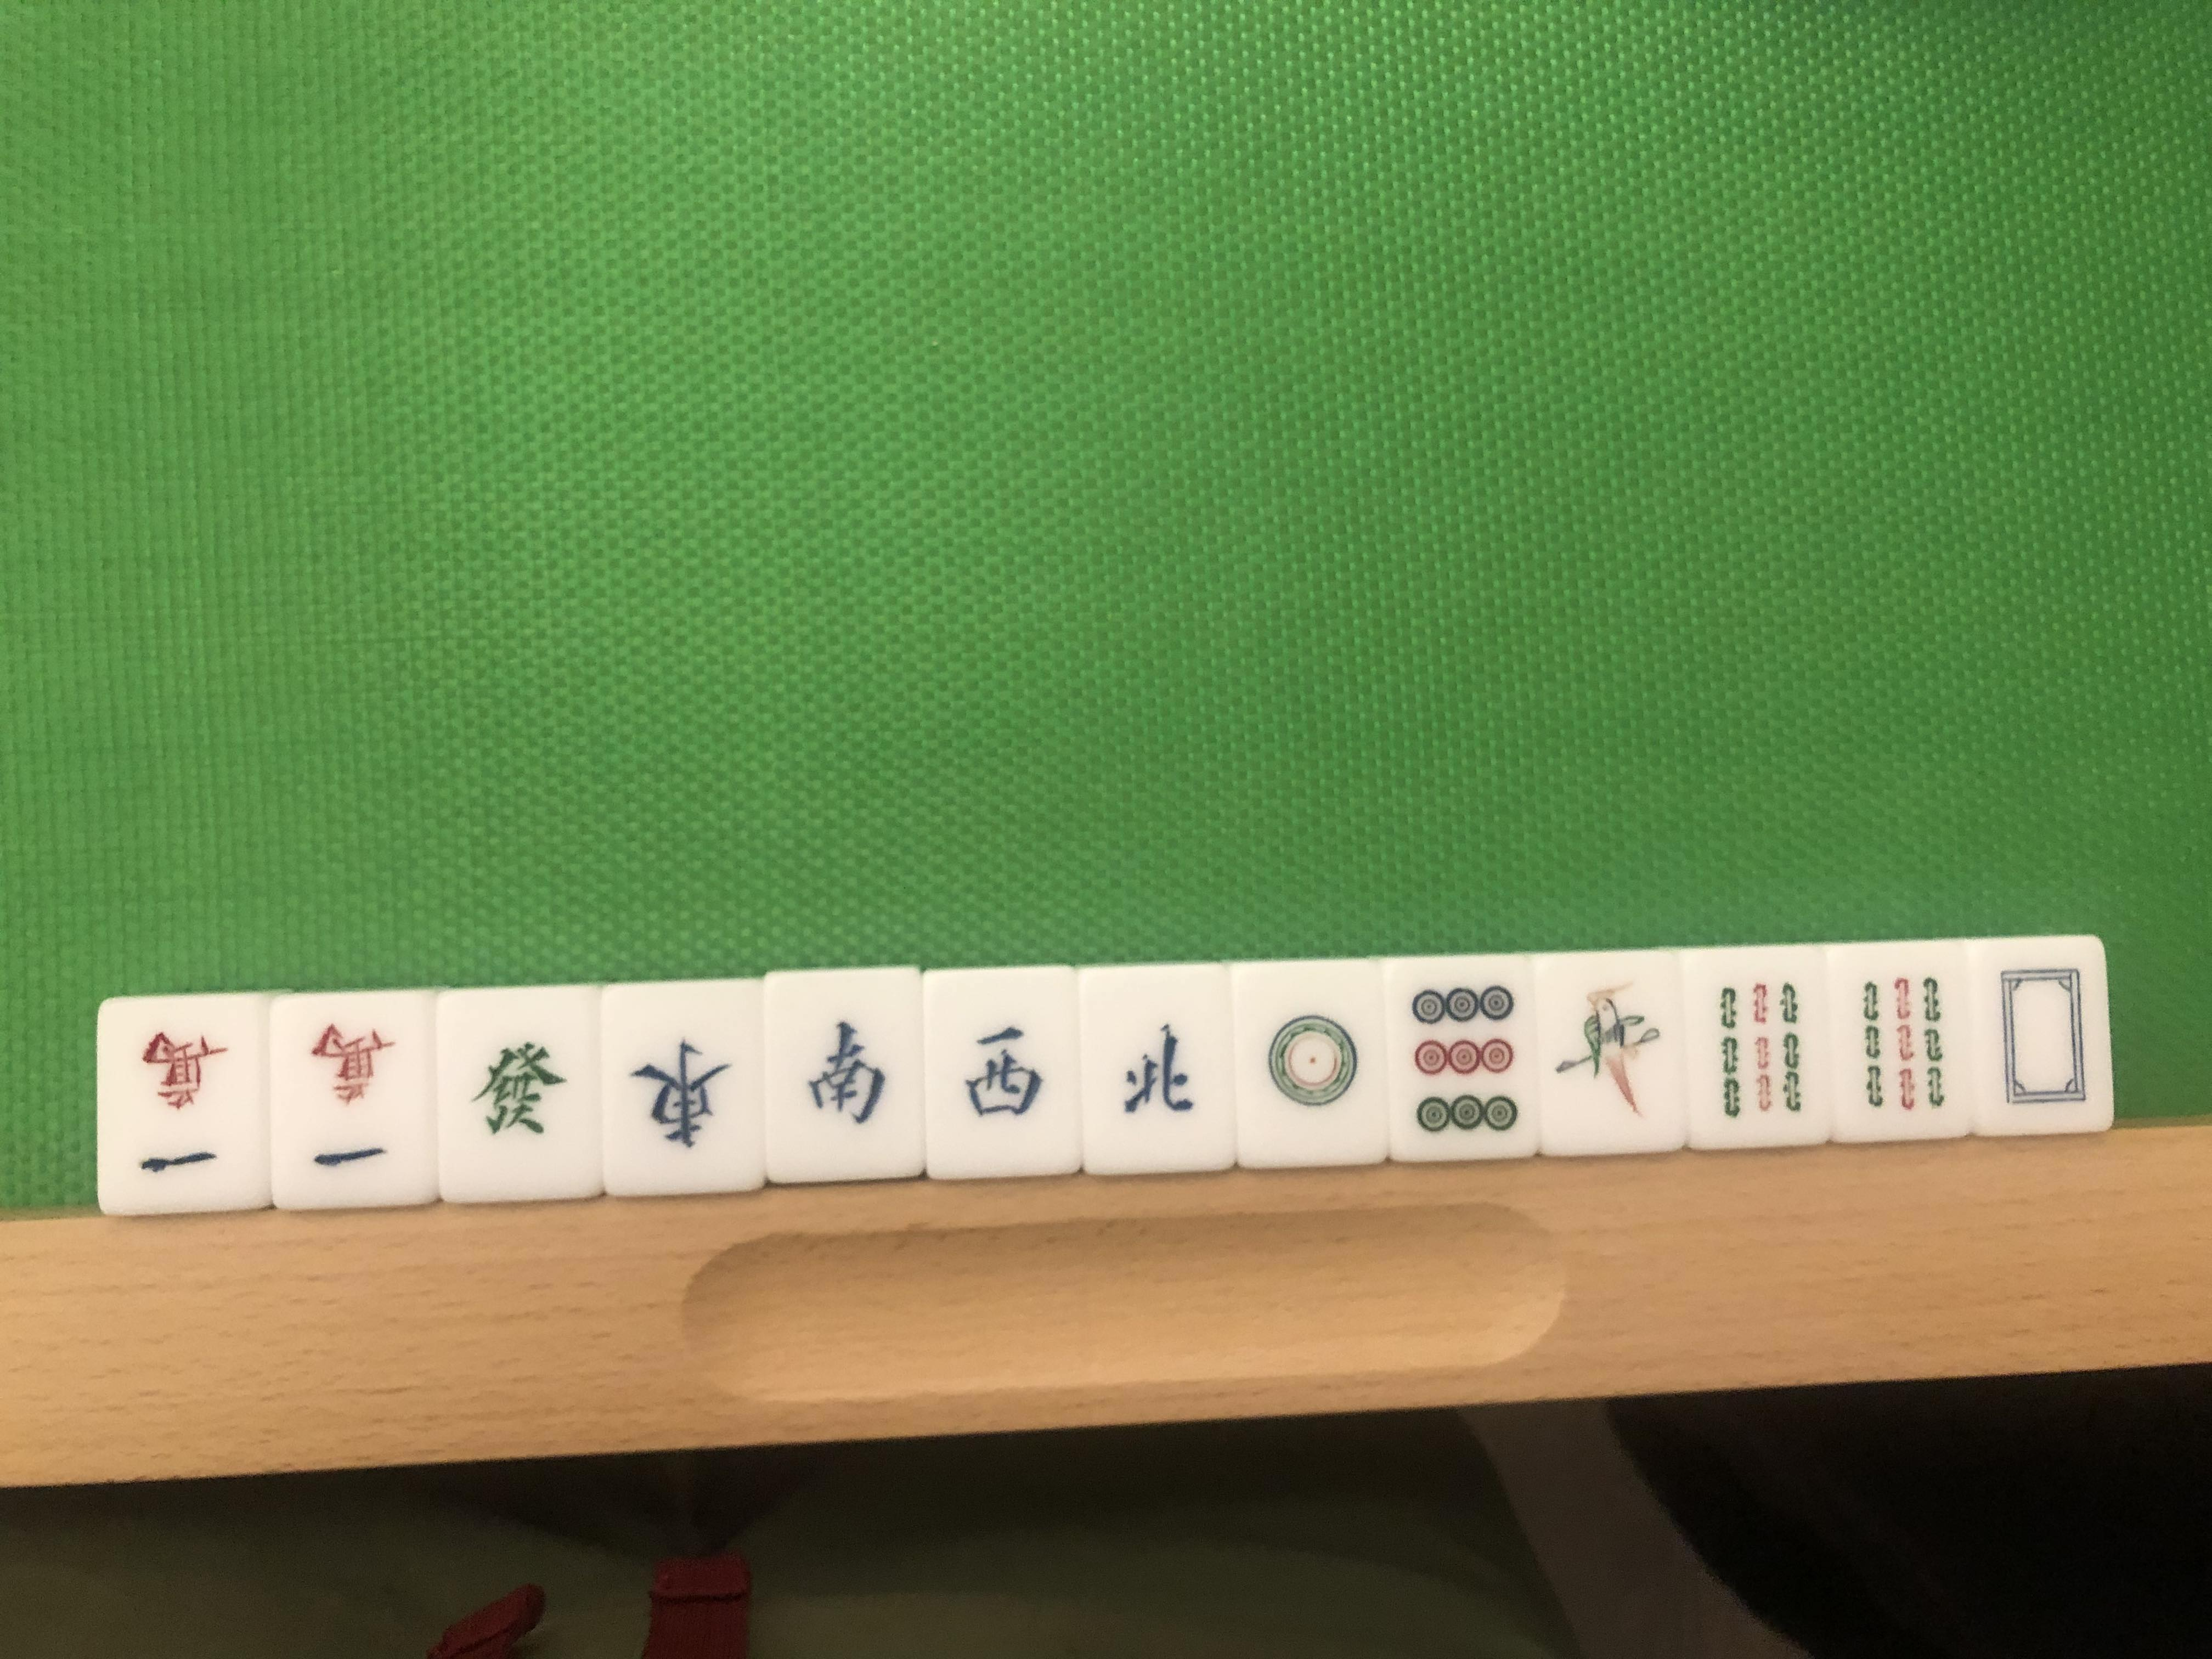bamboo-nine: (1838, 960, 1958, 1127), (1702, 965, 1820, 1131)
bamboo-one: (1548, 965, 1670, 1145)
character-one: (282, 1011, 413, 1182), (111, 1019, 240, 1188)
circle-nine: (1402, 972, 1529, 1140)
circle-one: (1245, 978, 1378, 1140)
honor-blue_dragon: (1982, 955, 2097, 1119)
honor-east_wind: (615, 1002, 737, 1176)
honor-green_dragon: (456, 1006, 585, 1183)
honor-north_wind: (1092, 983, 1212, 1157)
honor-south_wind: (777, 992, 900, 1161)
honor-west_wind: (937, 988, 1062, 1148)
